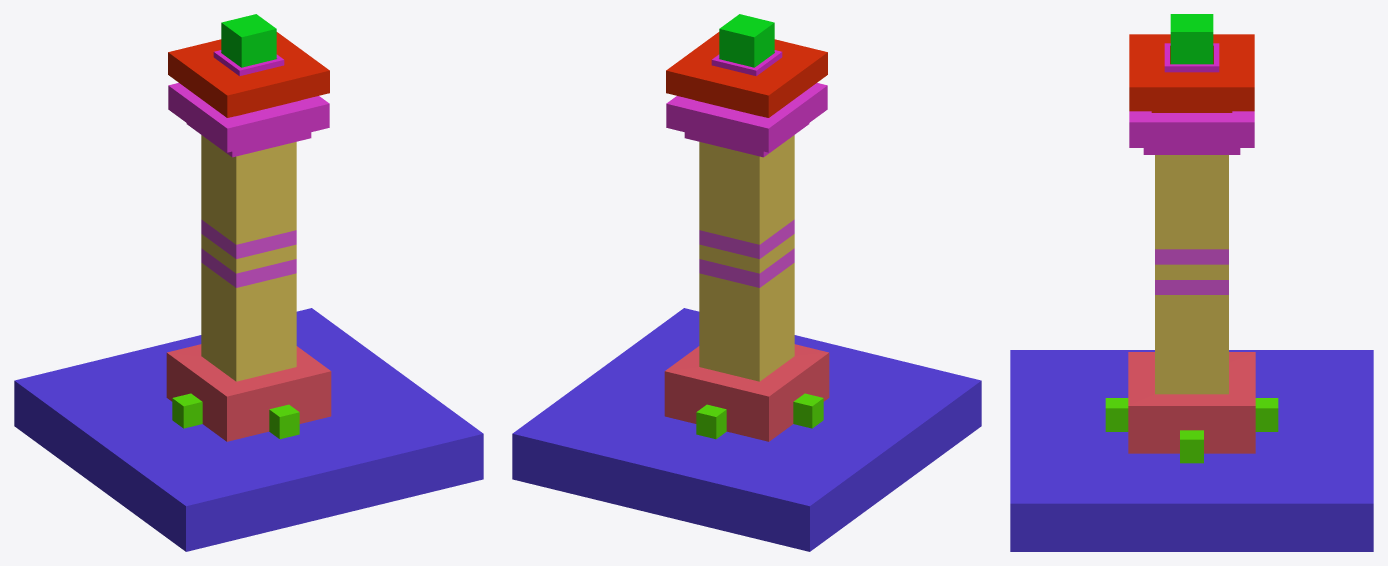
File: sniper_Lv2.fbx
The picture shows the model from 3 angles, left to right: view 1: azimuth 30°, elevation 25°; view 2: azimuth 150°, elevation 25°; view 3: azimuth 270°, elevation 25°; orthographic projection. The views are drawn at different scales.
Parts seen in each view (by area): view 1: Cube; view 2: Cube; view 3: Cube.
Boxes of the visible parts, x1=… form: Cube: x1=14, y1=14, x2=483, y2=551; Cube: x1=512, y1=14, x2=981, y2=551; Cube: x1=1010, y1=14, x2=1373, y2=551.
Size of the model in its own units: 200 by 274 by 200.
